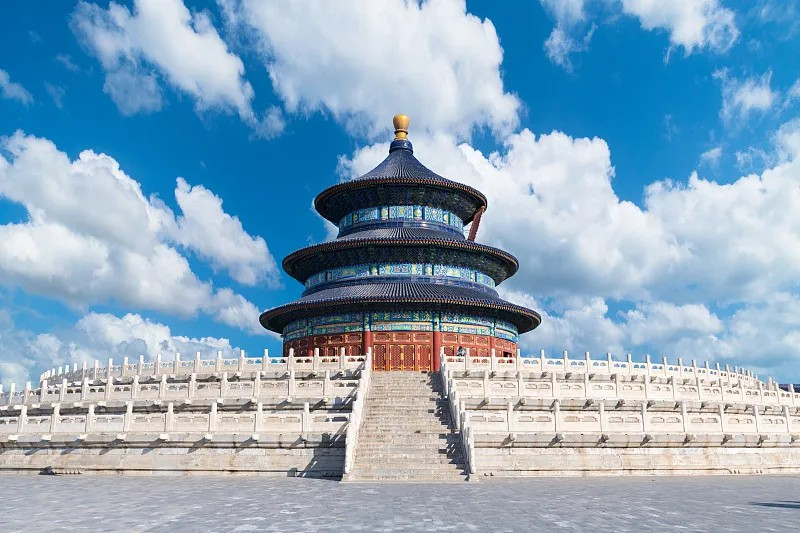Heaven: (259, 115, 543, 372)
